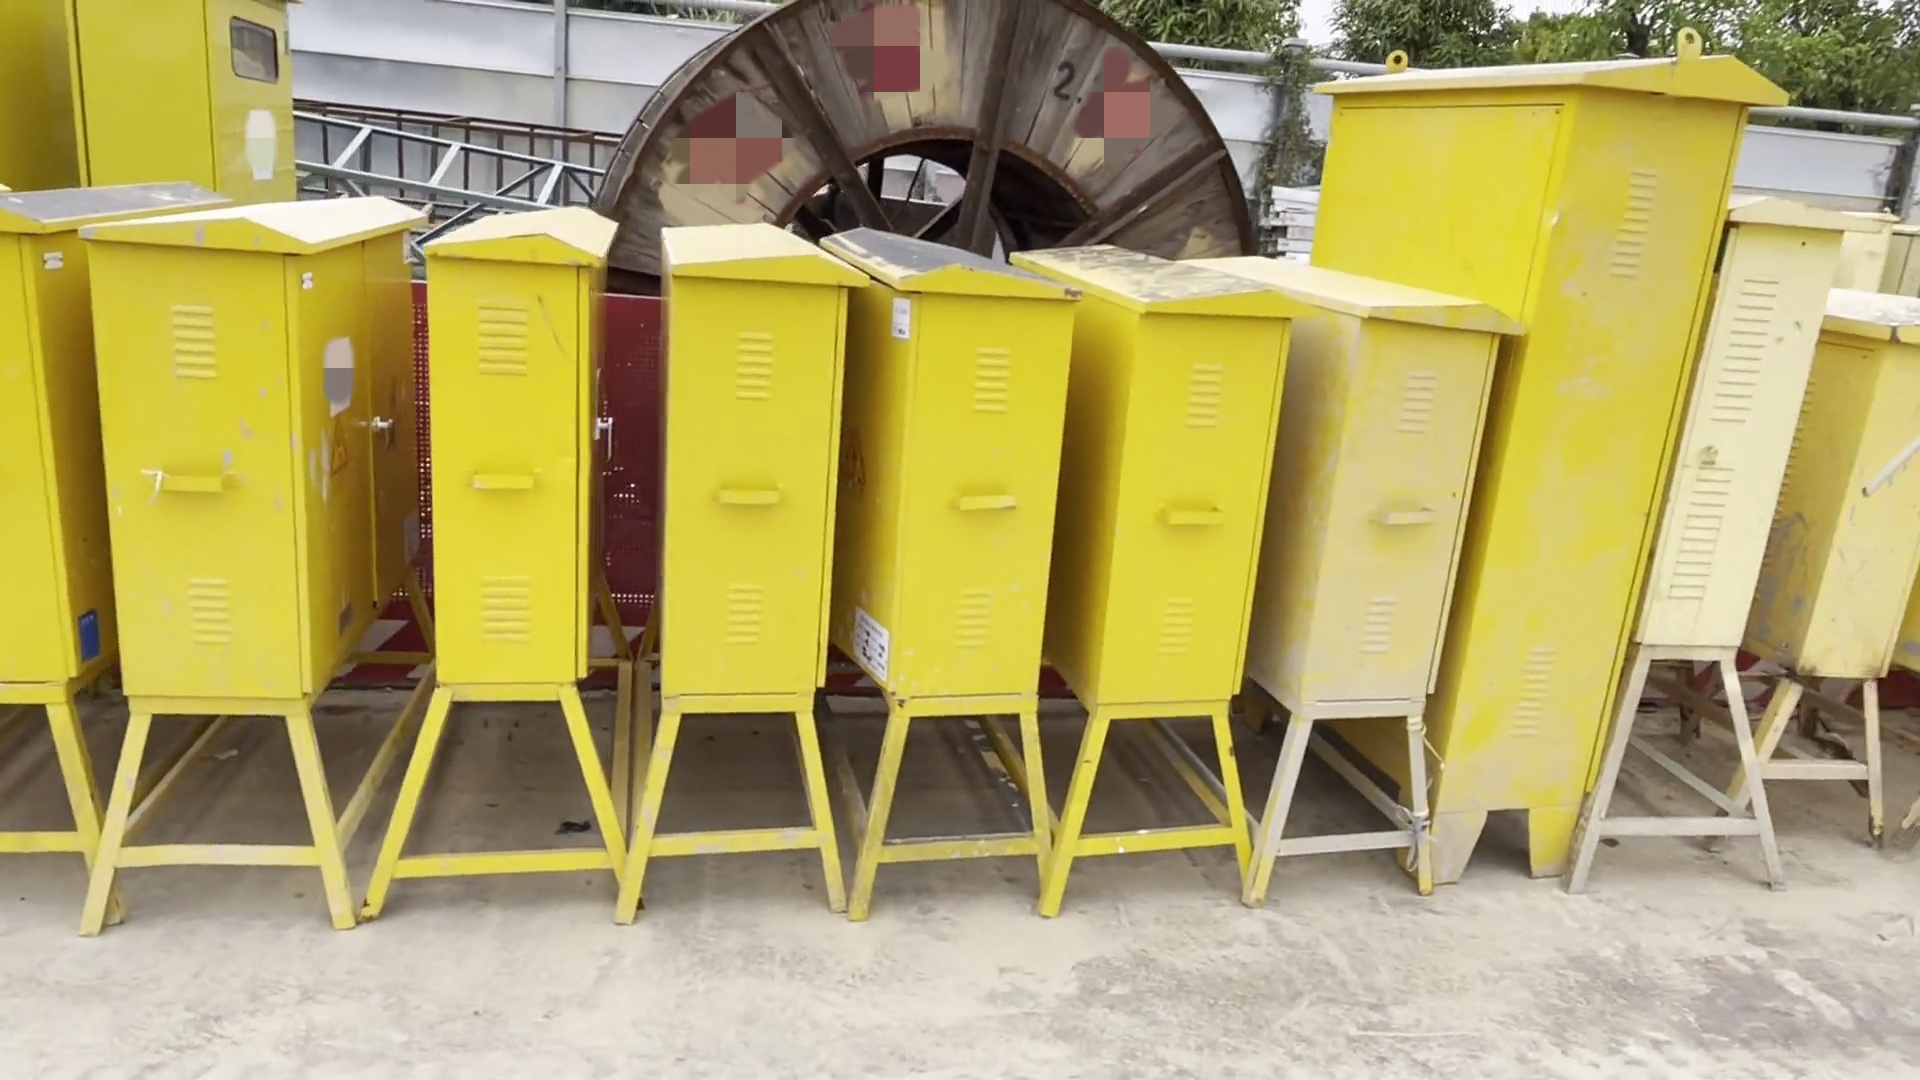ebox: (94, 153, 462, 935), (1323, 33, 1576, 881), (1582, 200, 1867, 887), (393, 164, 634, 920), (807, 216, 1069, 905), (607, 198, 841, 916), (1015, 241, 1247, 890), (1212, 220, 1429, 884), (1, 164, 150, 880), (1782, 284, 1890, 848), (78, 1, 349, 212)
